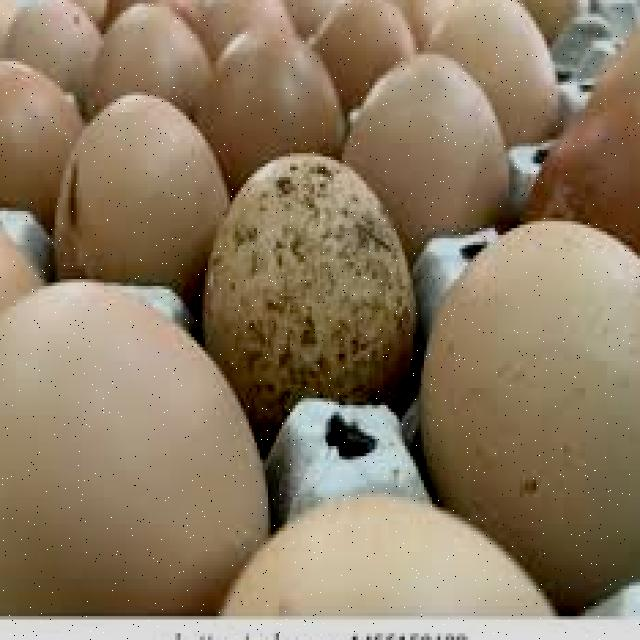Brown Egg: (0, 266, 260, 612)
Dirt Stained Egg: (186, 126, 427, 413)
